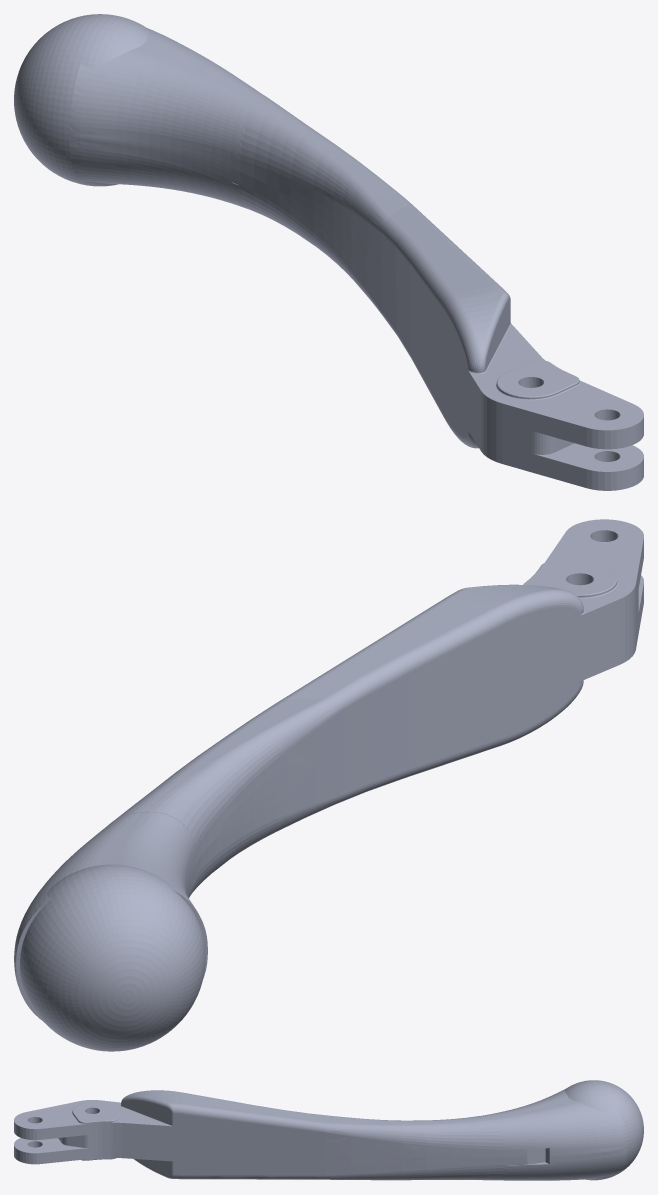
Rendered from calf.obj.
3 renders of one model, top to bottom at view 1: azimuth 30°, elevation 25°; view 2: azimuth 150°, elevation 25°; view 3: azimuth 270°, elevation 25°, orthographic. The views are drawn at different scales.
Visible parts, largest first — view 1: Calf-mesh; view 2: Calf-mesh; view 3: Calf-mesh.
Part boxes in pixels (<box>): Calf-mesh: <box>14,14,643,490</box>; Calf-mesh: <box>14,519,643,1051</box>; Calf-mesh: <box>14,1080,643,1180</box>.
Size of the model in its own units: 0.046 by 0.04 by 0.2514.
